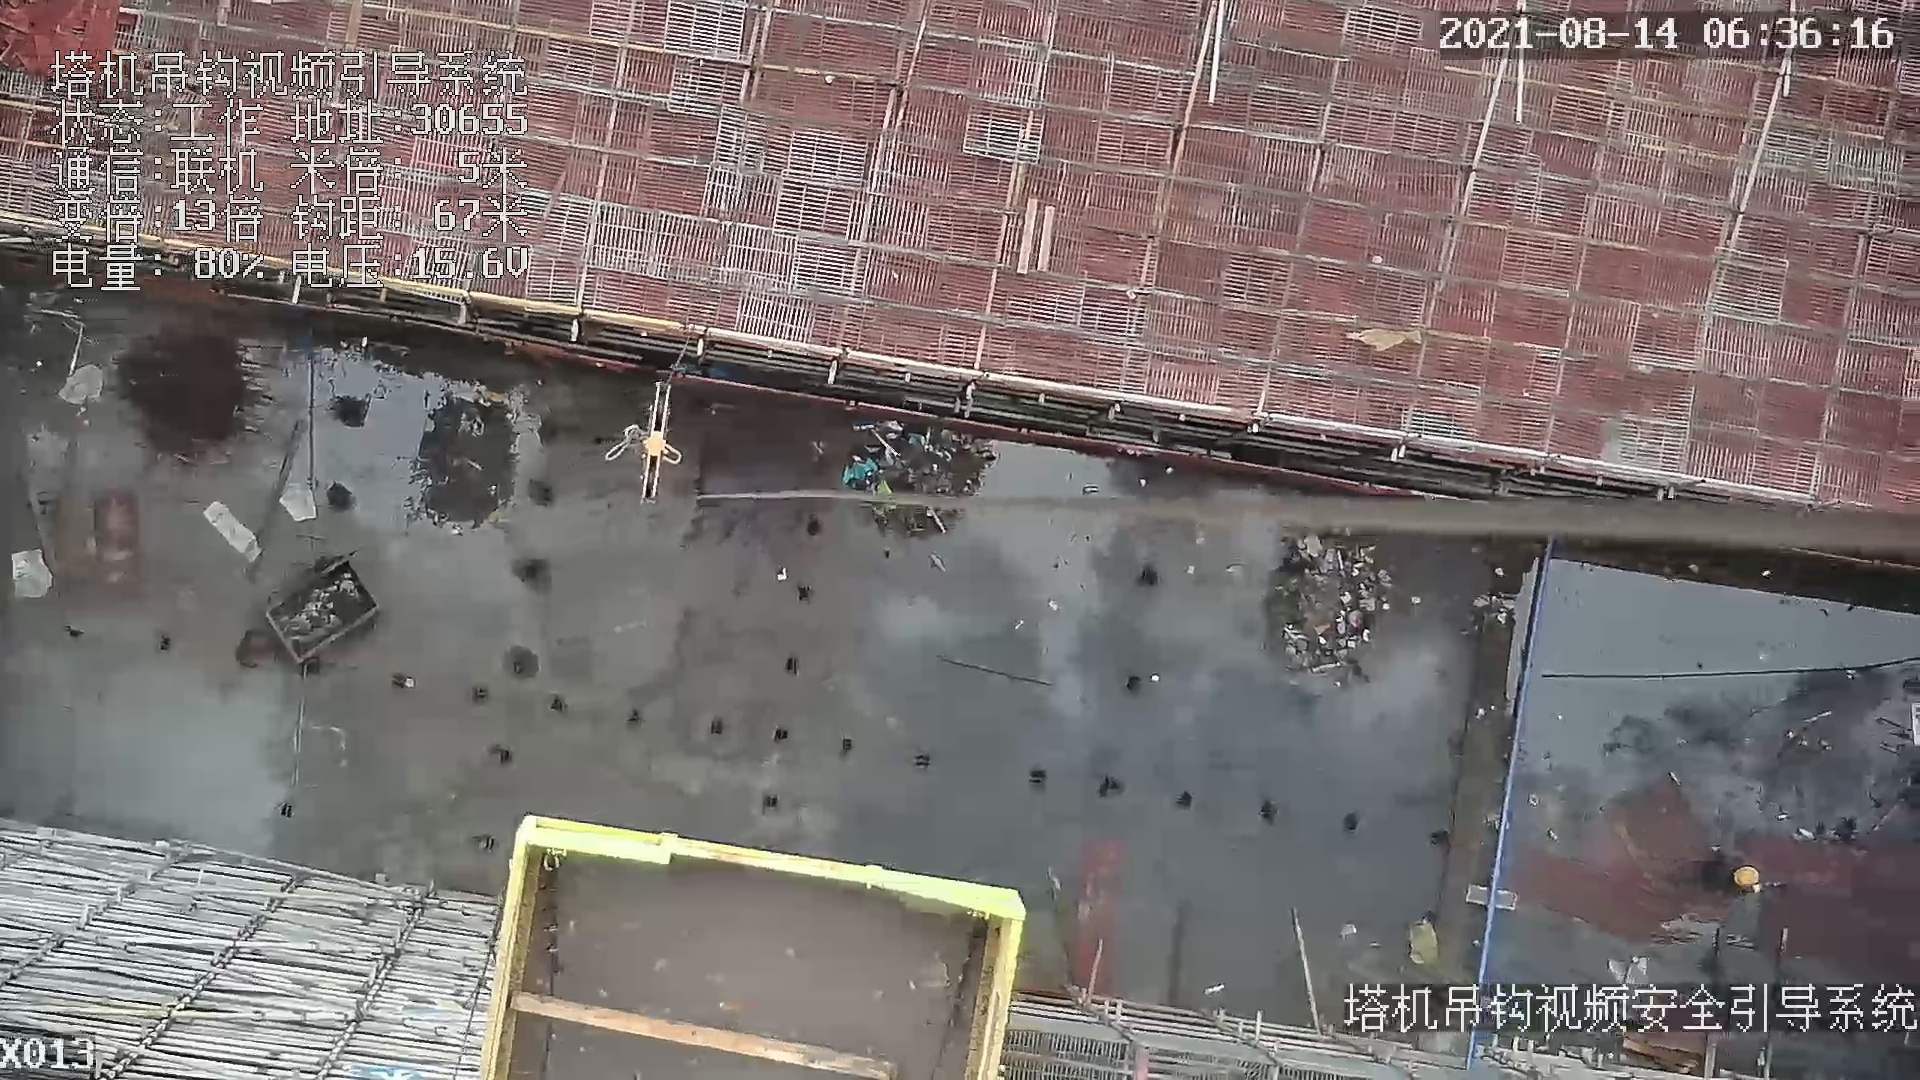helmet: (1736, 862, 1758, 892)
hook: (617, 382, 679, 506)
hopper: (256, 550, 388, 680)
person: (1692, 850, 1772, 900)
